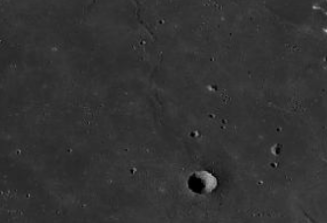crater: (159, 153, 259, 211)
